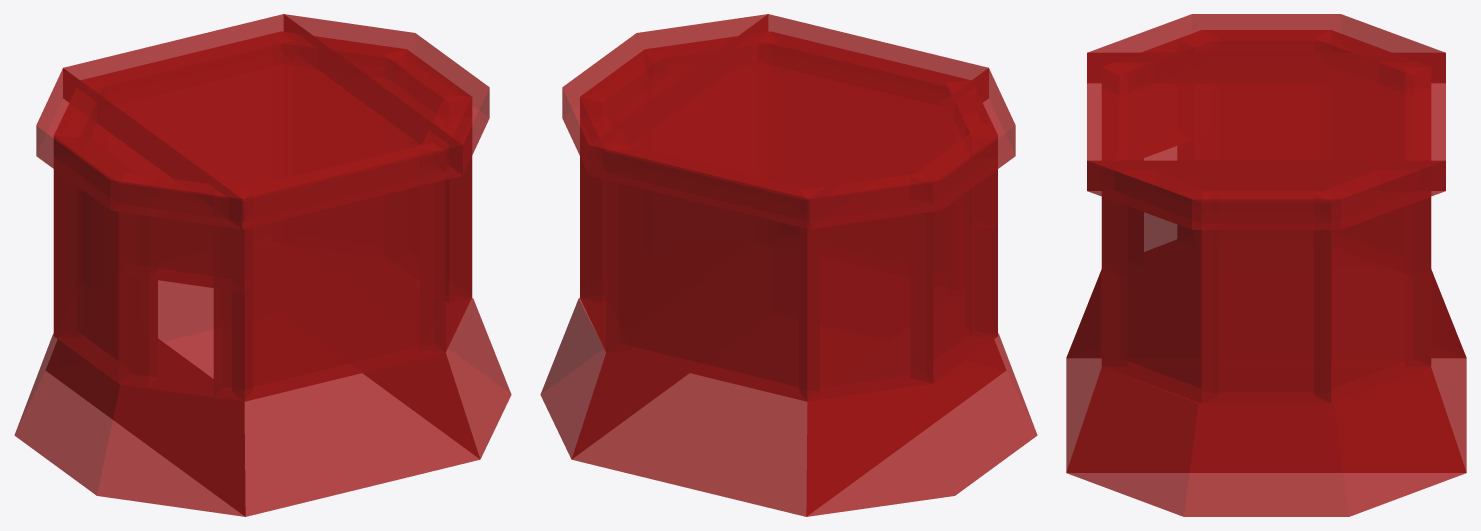
The model's file is SM_Bld_Dwarf_Building_02_Collision.fbx.
The picture shows the model from 3 angles, left to right: view 1: azimuth 30°, elevation 25°; view 2: azimuth 150°, elevation 25°; view 3: azimuth 270°, elevation 25°; orthographic projection.
Visible parts, largest first — view 1: SM_Bld_Dwarf_Building_02_Collision; view 2: SM_Bld_Dwarf_Building_02_Collision; view 3: SM_Bld_Dwarf_Building_02_Collision.
Part boxes in pixels (x1=…): SM_Bld_Dwarf_Building_02_Collision: x1=14, y1=14, x2=511, y2=516; SM_Bld_Dwarf_Building_02_Collision: x1=540, y1=14, x2=1037, y2=516; SM_Bld_Dwarf_Building_02_Collision: x1=1066, y1=14, x2=1466, y2=516.
Bounding box in the file's own units: 884 × 629 × 739.
